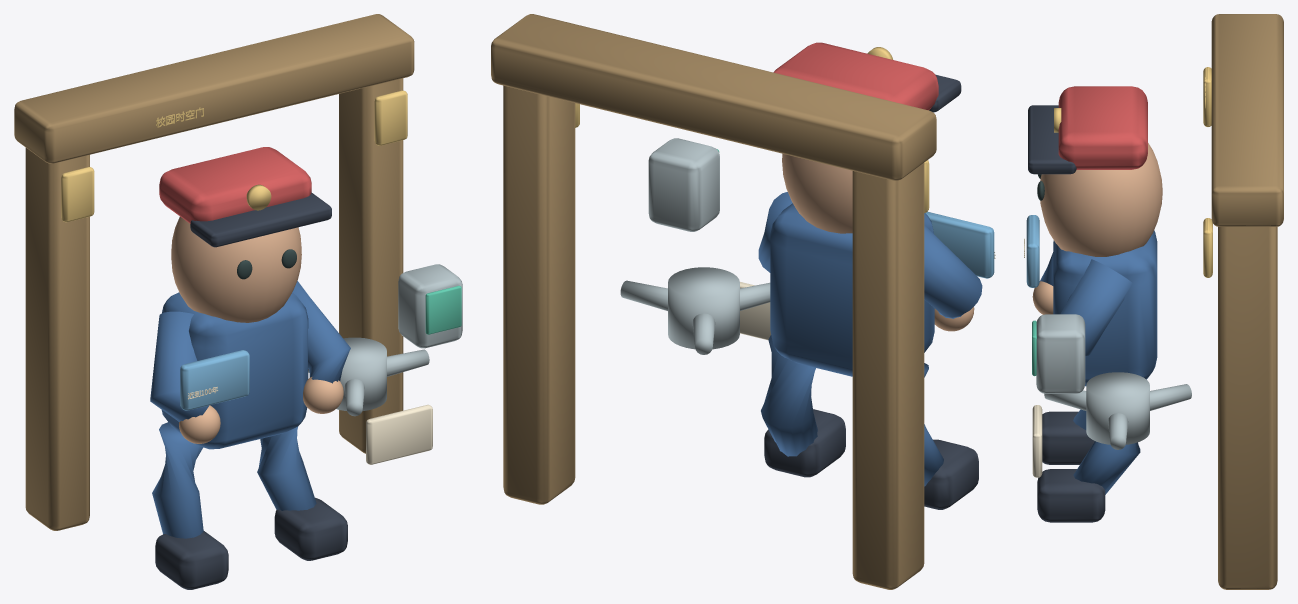
File: X08_Campus_Gate_Time_Security_Guard.glb
The picture shows the model from 3 angles, left to right: view 1: azimuth 30°, elevation 25°; view 2: azimuth 150°, elevation 25°; view 3: azimuth 270°, elevation 25°; orthographic projection. The views are drawn at different scales.
Visible parts, largest first — view 1: X08_CAMPUS_GATE_STATIC | Old bamboo and timber school gate p, X08_GUARD_BODY_ACTOR | Old campus guard historic navy canvas, X08 old security guard kindly 3d head, X08 physical peaked hat lower navy cap on security face, X08_GUARD_BODY_ACTOR | Actual black time-guard peaked cap vi, X08_GUARD_ARMS_ACTOR | Old campus guard historic navy canvas, X08_TURNSTILE_ACTOR | School building security stainless tol, X08_CAMPUS_GATE_STATIC | Guard cap school gold eagle tiny ba, X08 school-guard hat actual black peak forward visor, X08 security guard small identification swipe scanner, X08_TIME_PASS_ACTOR | Official forgotten visitor pass handma, X08 mysterious school visitor time travel swipe pass (+2 smaller); view 2: X08_CAMPUS_GATE_STATIC | Old bamboo and timber school gate p, X08_GUARD_BODY_ACTOR | Old campus guard historic navy canvas, X08_TURNSTILE_ACTOR | School building security stainless tol, X08 physical peaked hat lower navy cap on security face, X08 security guard small identification swipe scanner, X08_GUARD_BODY_ACTOR | Actual black time-guard peaked cap vi, X08_GUARD_ARMS_ACTOR | Old campus guard historic navy canvas, X08 old security guard kindly 3d head, X08 mysterious school visitor time travel swipe pass, X08_TIME_PASS_ACTOR | Official forgotten visitor pass handma, X08 school-guard hat actual black peak forward visor; view 3: X08_CAMPUS_GATE_STATIC | Old bamboo and timber school gate p, X08_GUARD_BODY_ACTOR | Old campus guard historic navy canvas, X08 old security guard kindly 3d head, X08 physical peaked hat lower navy cap on security face, X08_TURNSTILE_ACTOR | School building security stainless tol, X08_GUARD_BODY_ACTOR | Actual black time-guard peaked cap vi, X08 security guard small identification swipe scanner, X08_GUARD_ARMS_ACTOR | Old campus guard historic navy canvas, X08 school-guard hat actual black peak forward visor, X08_CAMPUS_GATE_STATIC | Guard cap school gold eagle tiny ba, X08 mysterious school visitor time travel swipe pass, X08_TIME_PASS_ACTOR | Official forgotten visitor pass handma (+1 smaller).
Boxes of the visible parts, box(x1,y1,x2,y2) form: X08_CAMPUS_GATE_STATIC | Old bamboo and timber school gate p: box(14, 14, 414, 530); X08_GUARD_BODY_ACTOR | Old campus guard historic navy canvas: box(152, 292, 316, 538); X08 old security guard kindly 3d head: box(171, 216, 301, 322); X08 physical peaked hat lower navy cap on security face: box(159, 147, 311, 223); X08_GUARD_BODY_ACTOR | Actual black time-guard peaked cap vi: box(155, 497, 347, 589); X08_GUARD_ARMS_ACTOR | Old campus guard historic navy canvas: box(150, 281, 350, 421); X08_TURNSTILE_ACTOR | School building security stainless tol: box(308, 337, 429, 416); X08_CAMPUS_GATE_STATIC | Guard cap school gold eagle tiny ba: box(61, 90, 407, 222); X08 school-guard hat actual black peak forward visor: box(190, 192, 331, 247); X08 security guard small identification swipe scanner: box(398, 264, 462, 348); X08_TIME_PASS_ACTOR | Official forgotten visitor pass handma: box(188, 386, 432, 464); X08 mysterious school visitor time travel swipe pass: box(180, 350, 249, 410); X08_CAMPUS_GATE_STATIC | Old bamboo and timber school gate p: box(491, 14, 936, 589); X08_GUARD_BODY_ACTOR | Old campus guard historic navy canvas: box(761, 203, 943, 486); X08_TURNSTILE_ACTOR | School building security stainless tol: box(620, 267, 770, 354); X08 physical peaked hat lower navy cap on security face: box(773, 42, 938, 110); X08 security guard small identification swipe scanner: box(648, 138, 719, 231); X08_GUARD_BODY_ACTOR | Actual black time-guard peaked cap vi: box(764, 409, 978, 509); X08_GUARD_ARMS_ACTOR | Old campus guard historic navy canvas: box(758, 192, 982, 318); X08 old security guard kindly 3d head: box(782, 153, 852, 233); X08 mysterious school visitor time travel swipe pass: box(925, 211, 994, 278); X08_TIME_PASS_ACTOR | Official forgotten visitor pass handma: box(740, 252, 995, 340); X08 school-guard hat actual black peak forward visor: box(929, 74, 961, 112); X08_CAMPUS_GATE_STATIC | Old bamboo and timber school gate p: box(1211, 14, 1283, 589); X08_GUARD_BODY_ACTOR | Old campus guard historic navy canvas: box(1053, 230, 1157, 494); X08 old security guard kindly 3d head: box(1040, 143, 1162, 256); X08 physical peaked hat lower navy cap on security face: box(1058, 86, 1147, 169); X08_TURNSTILE_ACTOR | School building security stainless tol: box(1044, 372, 1191, 449); X08_GUARD_BODY_ACTOR | Actual black time-guard peaked cap vi: box(1037, 411, 1105, 522); X08 security guard small identification swipe scanner: box(1036, 314, 1085, 393); X08_GUARD_ARMS_ACTOR | Old campus guard historic navy canvas: box(1039, 252, 1132, 355); X08 school-guard hat actual black peak forward visor: box(1028, 105, 1076, 174); X08_CAMPUS_GATE_STATIC | Guard cap school gold eagle tiny ba: box(1203, 67, 1212, 277); X08 mysterious school visitor time travel swipe pass: box(1026, 215, 1039, 287); X08_TIME_PASS_ACTOR | Official forgotten visitor pass handma: box(1024, 238, 1042, 477).
Bounding box in the file's own units: 1.98 × 2.13 × 1.22.
